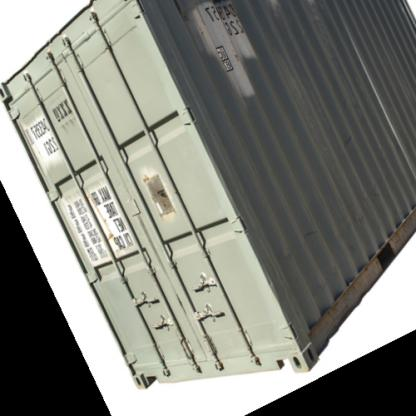Damage: (312, 266, 378, 332)
